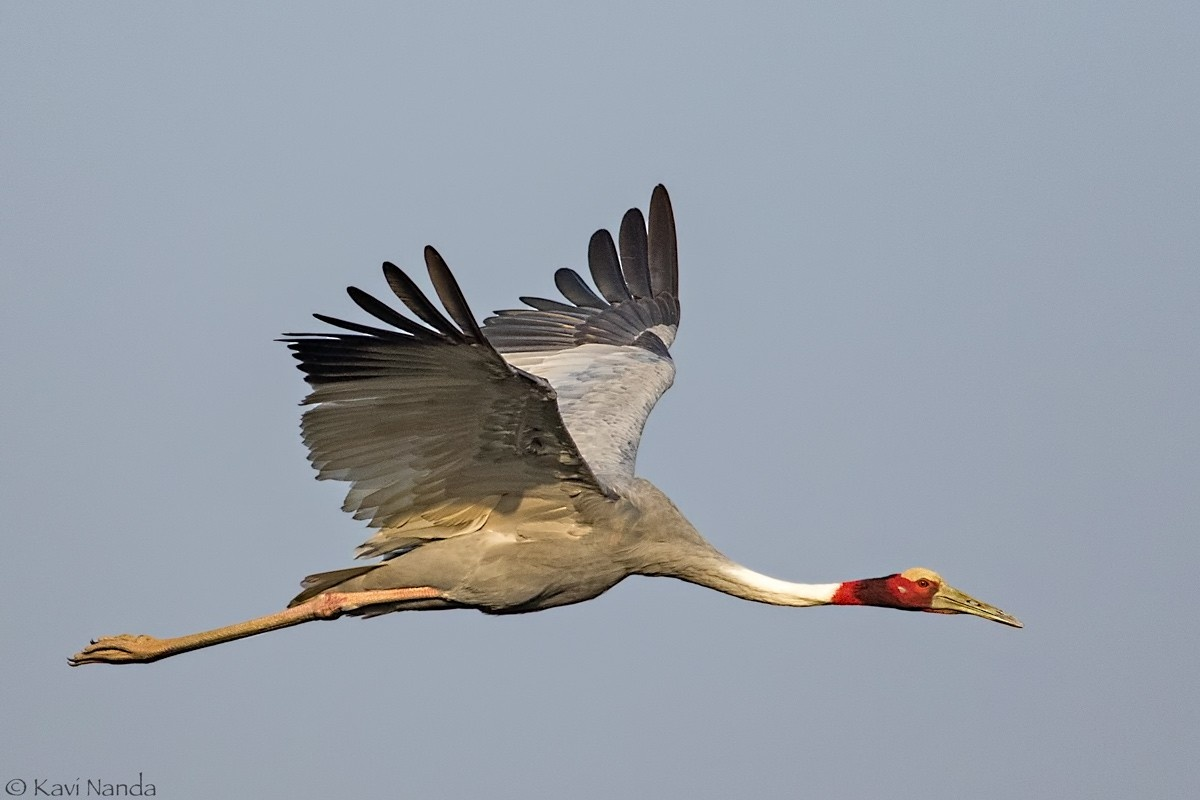crane: (34, 172, 1043, 727)
